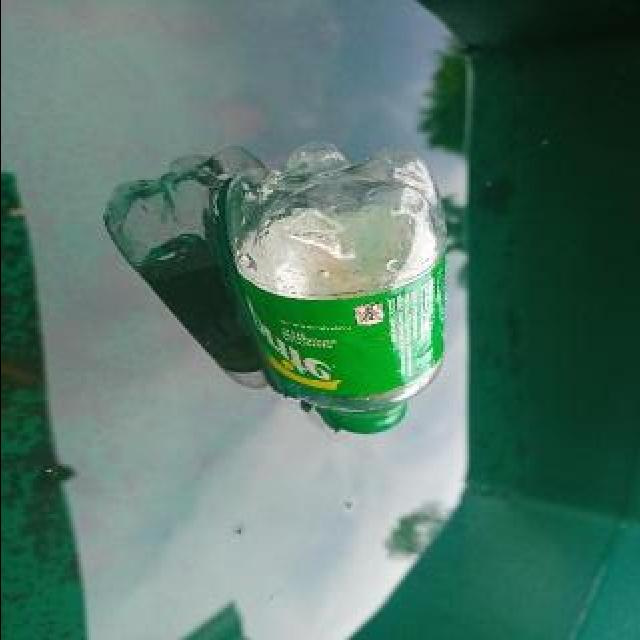Bottle: (213, 132, 457, 442)
